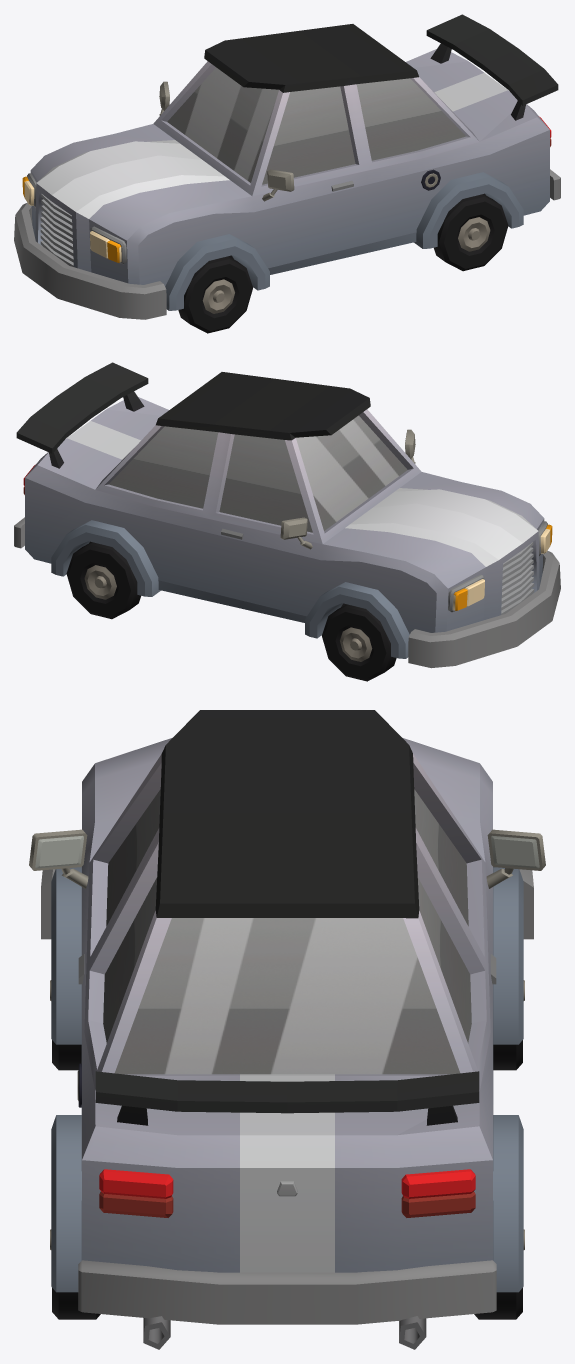
Rendered from Car_1_L.gltf.
The picture shows the model from 3 angles, top to bottom: view 1: azimuth 30°, elevation 25°; view 2: azimuth 150°, elevation 25°; view 3: azimuth 270°, elevation 25°; orthographic projection. The views are drawn at different scales.
Visible parts, largest first — view 1: Car_1_L, RL, FL; view 2: Car_1_L, RR, FR; view 3: Car_1_L, RL, RR, FR, FL.
Part boxes in pixels (x1,y1,x2,y2): Car_1_L: (14, 14, 560, 319); RL: (434, 194, 508, 271); FL: (178, 256, 252, 333); Car_1_L: (14, 362, 560, 668); RR: (66, 542, 140, 619); FR: (322, 604, 396, 681); Car_1_L: (29, 710, 545, 1349); RL: (50, 1229, 100, 1319); RR: (474, 1229, 524, 1319); FR: (493, 980, 524, 1070); FL: (50, 980, 81, 1070).
Size of the model in its own units: 3.64 by 1.5 by 1.7.
4 materials, 4 textured.
